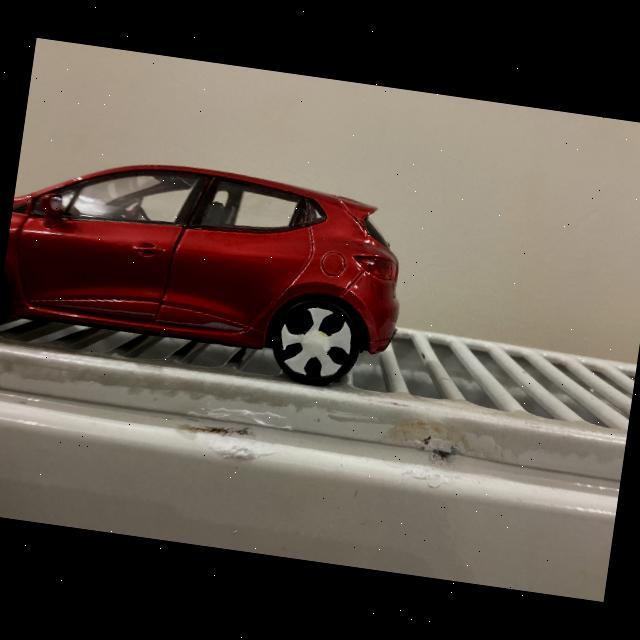Yanlis_Jant: (276, 304, 356, 382)
